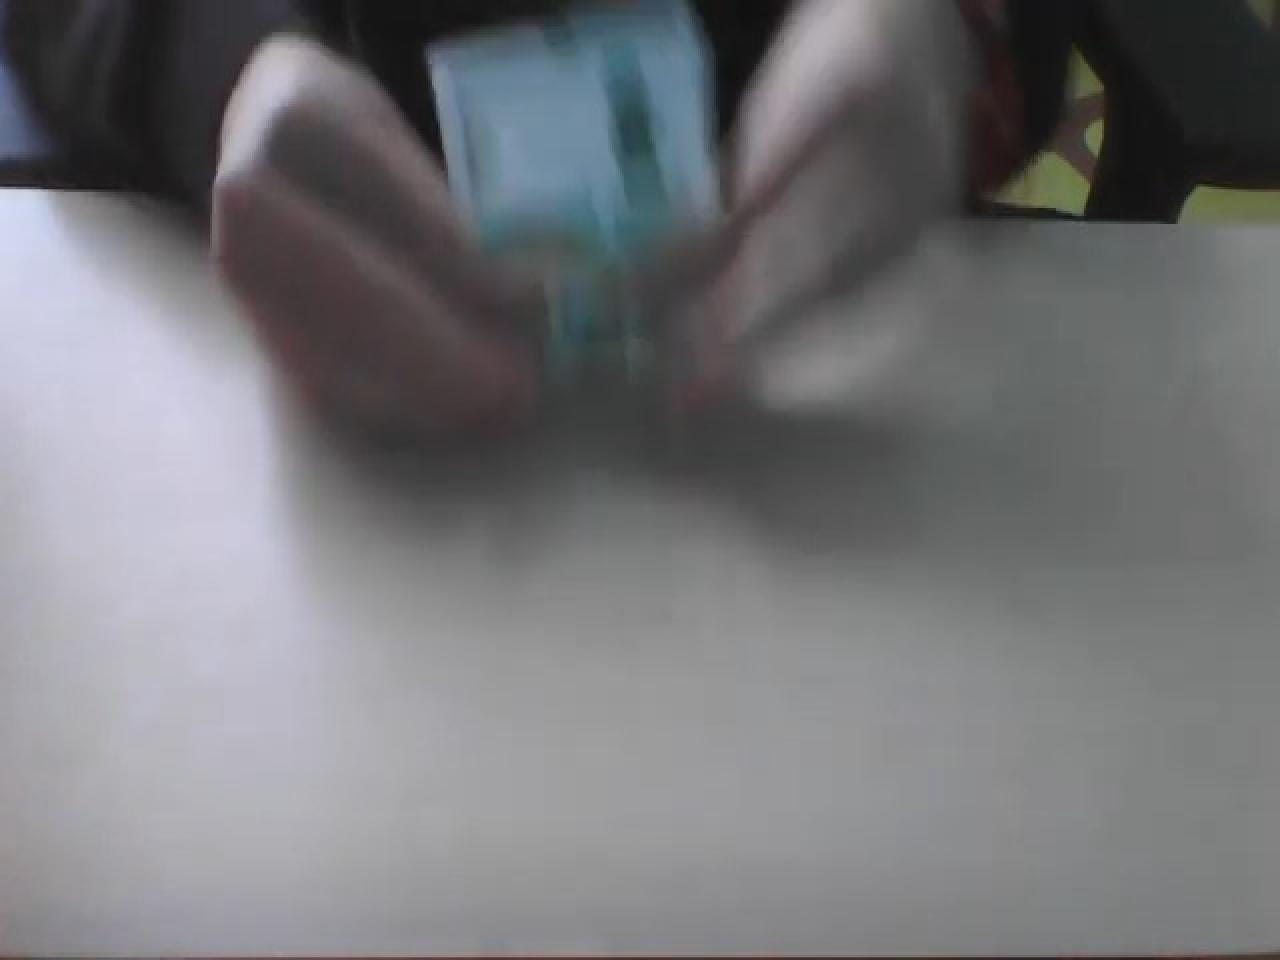100leva: (420, 2, 726, 386)
